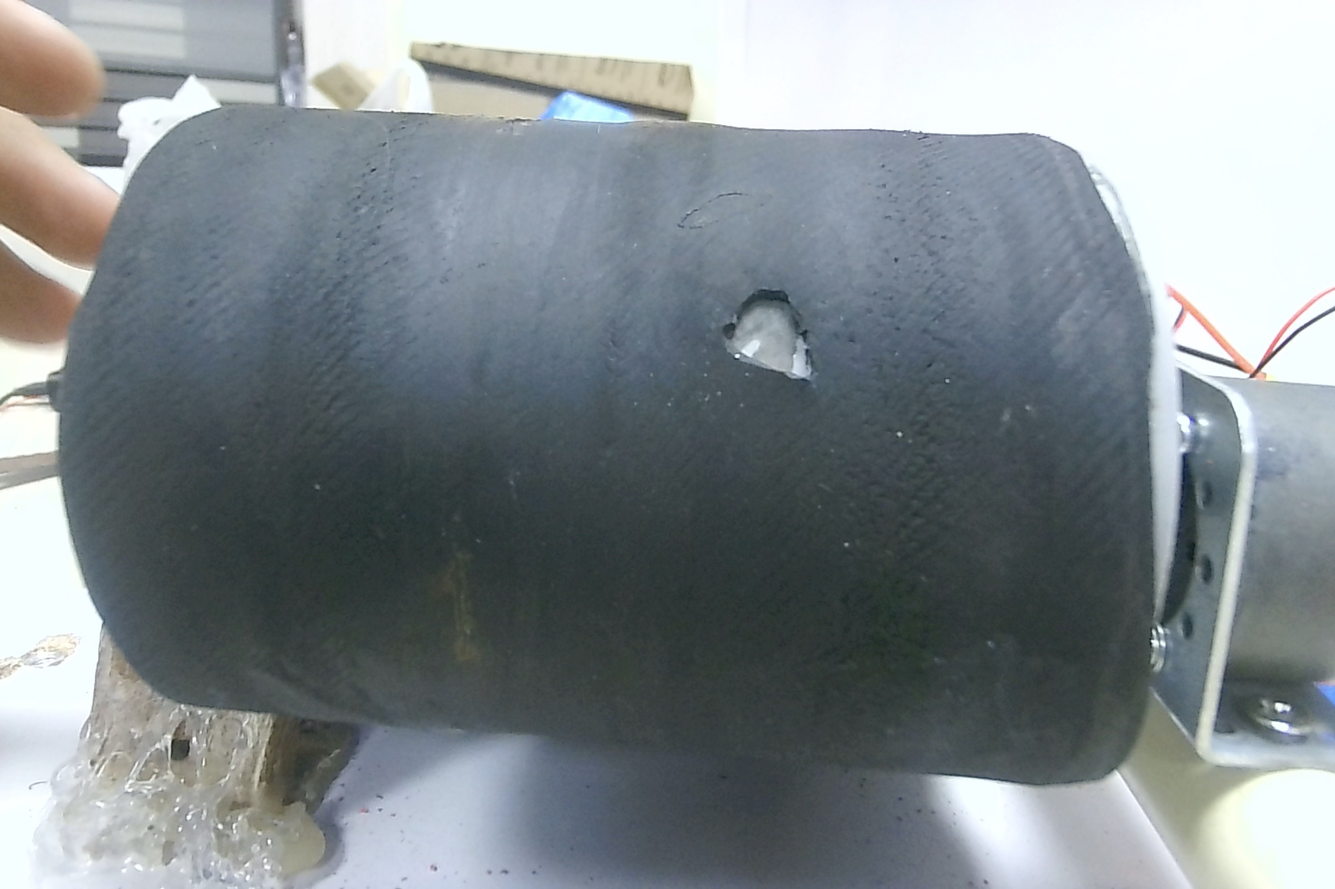hole: (716, 285, 823, 392)
